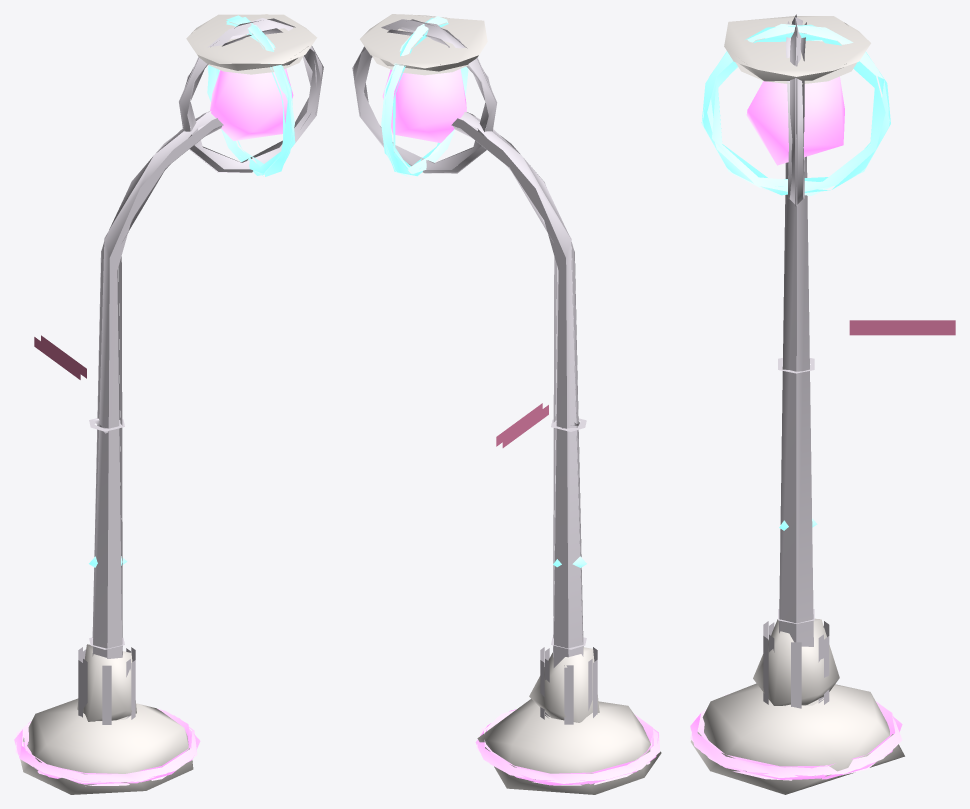
The model's file is lod_lamp_futuristic.glb.
3 views of the same model, side by side, from view 1: azimuth 30°, elevation 25°; view 2: azimuth 150°, elevation 25°; view 3: azimuth 270°, elevation 25° (orthographic). The views are drawn at different scales.
Visible parts, largest first — view 1: lamp_futuristic; view 2: lamp_futuristic; view 3: lamp_futuristic.
Boxes of the visible parts, left/top/right/bottom form: lamp_futuristic: left=14, top=14, right=323, bottom=794; lamp_futuristic: left=352, top=14, right=661, bottom=794; lamp_futuristic: left=690, top=14, right=955, bottom=794.
Size of the model in its own units: 1.85 by 4.2 by 1.25.
